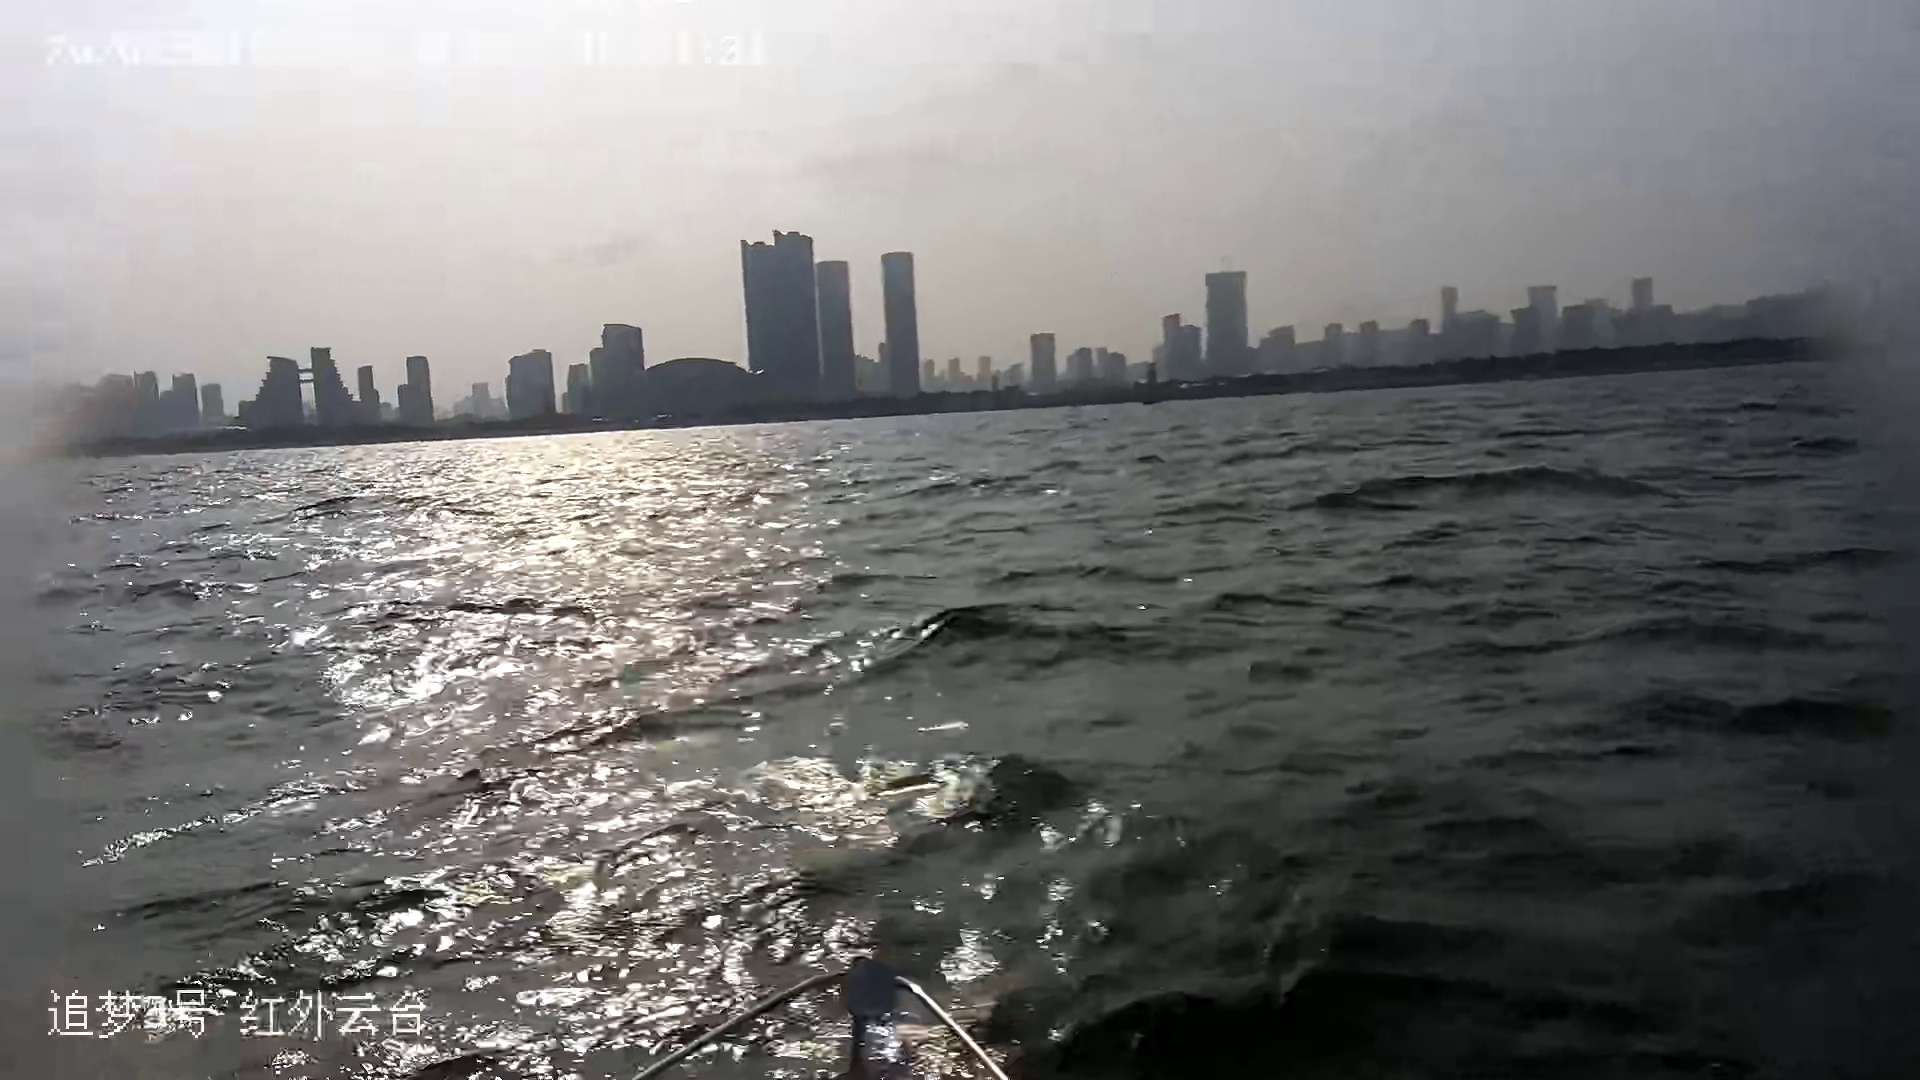coast: (21, 216, 1920, 456)
